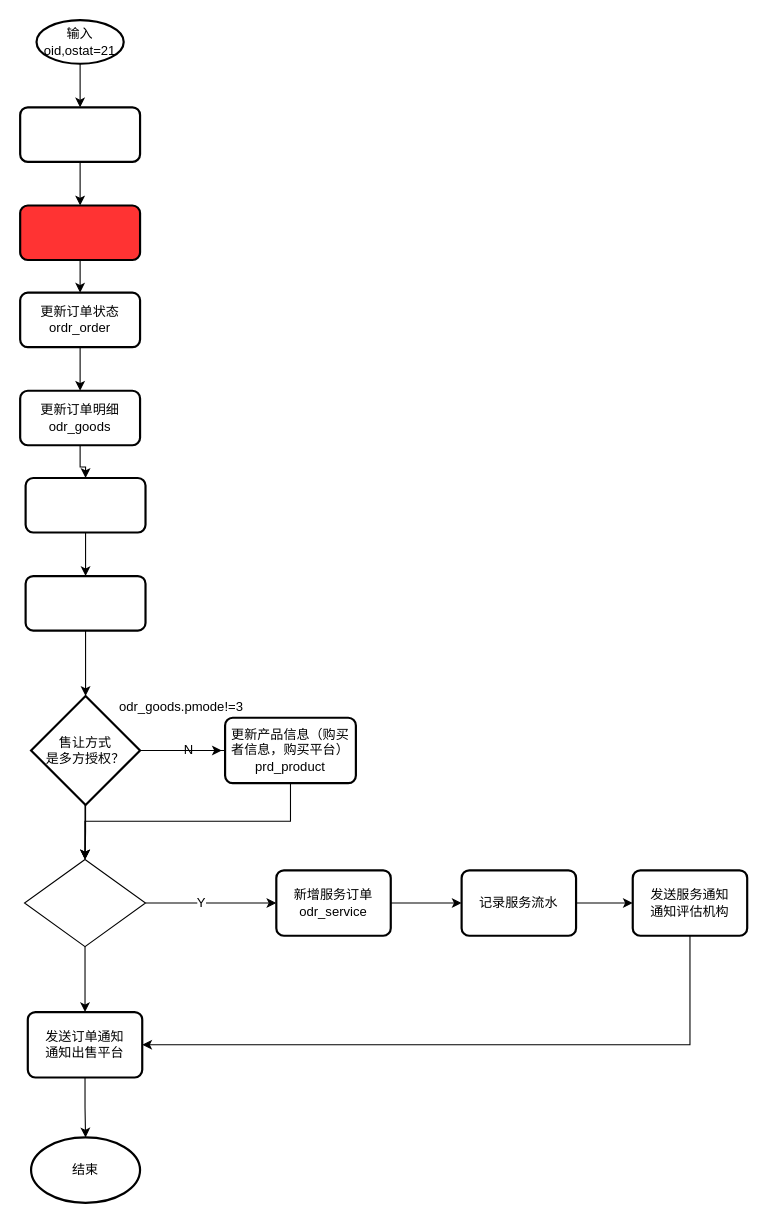
Image size: 766x1222. Some labels were removed from this diagram. The box of each missing label's shape, as (x1, y1, x2, y2) in pixels:
$order获取订单详情: (19, 106, 141, 162)
是否需要评估服务: (23, 858, 146, 947)
更新合同信息 odr_constract: (24, 476, 146, 533)
更新合同信息到链上: (19, 204, 141, 261)
更新订单流水 odr_water: (24, 574, 146, 631)
